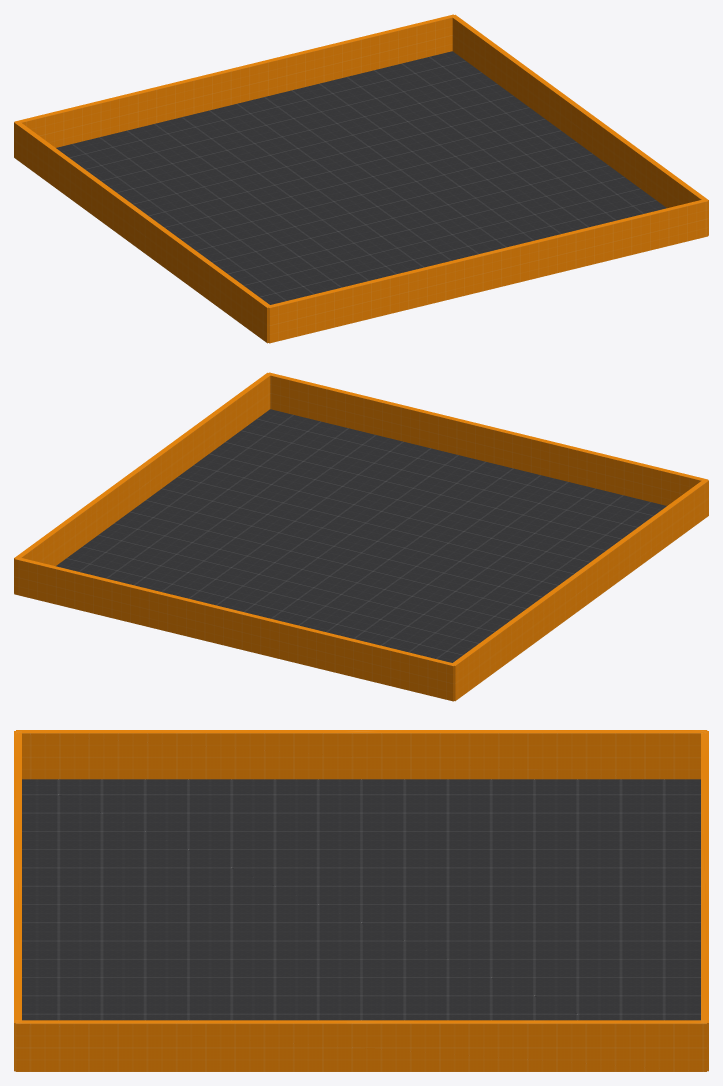
The model's file is map.glb.
3 renders of one model, top to bottom at view 1: azimuth 30°, elevation 25°; view 2: azimuth 150°, elevation 25°; view 3: azimuth 270°, elevation 25°, orthographic. The views are drawn at different scales.
Parts seen in each view (by area): view 1: Plane, Cube.001, Cube, Cube.003, Cube.002; view 2: Plane, Cube, Cube.001, Cube.003, Cube.002; view 3: Plane, Cube.002, Cube.003, Cube, Cube.001.
Part boxes in pixels (<box>): Plane: <box>56,51,666,304</box>; Cube.001: <box>267,199,708,343</box>; Cube: <box>14,14,455,147</box>; Cube.003: <box>14,121,269,343</box>; Cube.002: <box>451,14,708,235</box>; Plane: <box>56,409,666,662</box>; Cube: <box>14,557,455,701</box>; Cube.001: <box>267,372,707,505</box>; Cube.003: <box>451,479,708,701</box>; Cube.002: <box>14,372,270,593</box>; Plane: <box>22,779,707,1068</box>; Cube.002: <box>15,1020,706,1071</box>; Cube.003: <box>16,730,707,779</box>; Cube: <box>701,731,708,1071</box>; Cube.001: <box>14,731,21,1071</box>.
Bounding box in the file's own units: 174 × 13.32 × 174.
2 materials, 2 textured.
